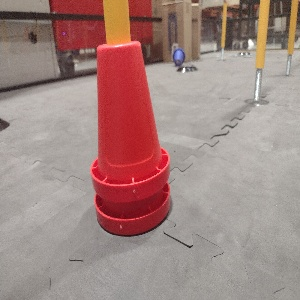Blue_1: (171, 48, 185, 66)
Red_2: (88, 39, 172, 236)
